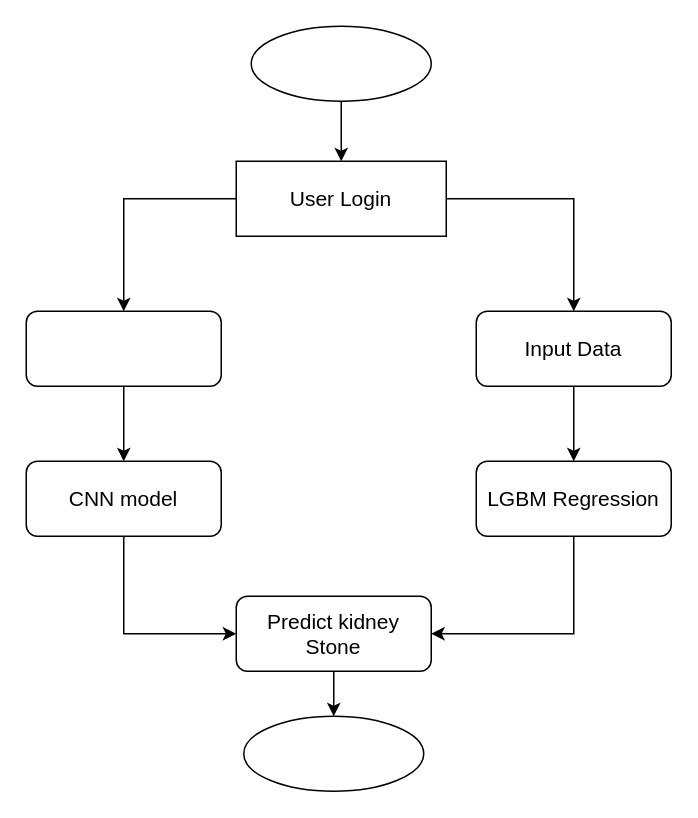
The diagram is 698 pixels wide and 818 high, and some of its shapes have lost their labels. The shapes that lost their labels are listed below. From the top down, each one's centre as x and y in pixels, then its label:
At point 340,63: "Start".
At point 123,348: "Input image(CT scan image)".
At point 333,753: "End".
